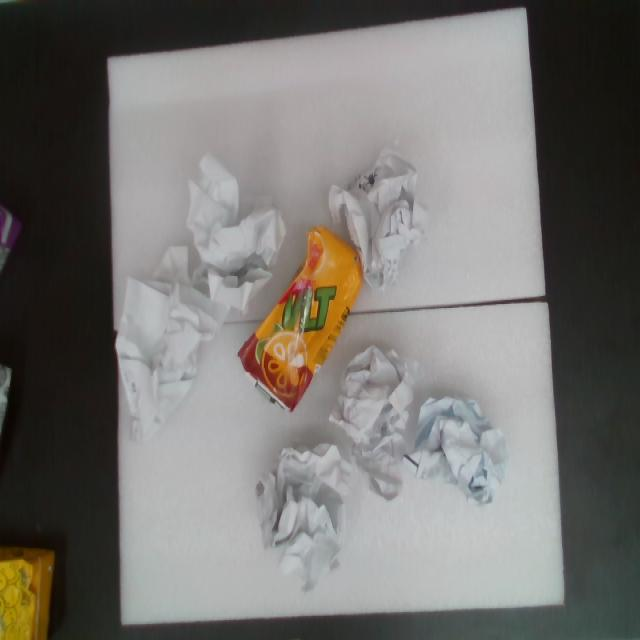juicebox: (214, 212, 398, 432)
paper: (172, 125, 322, 324), (114, 235, 226, 451), (314, 124, 446, 303), (315, 331, 428, 516), (399, 376, 526, 524), (253, 440, 358, 592)
